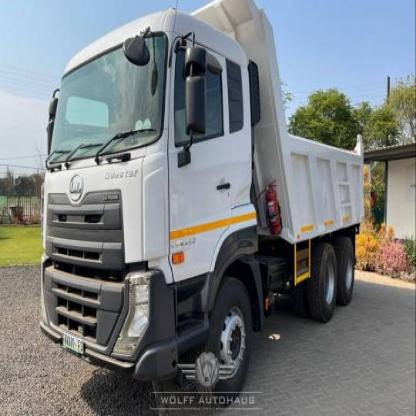dump_truck: (25, 5, 373, 398)
